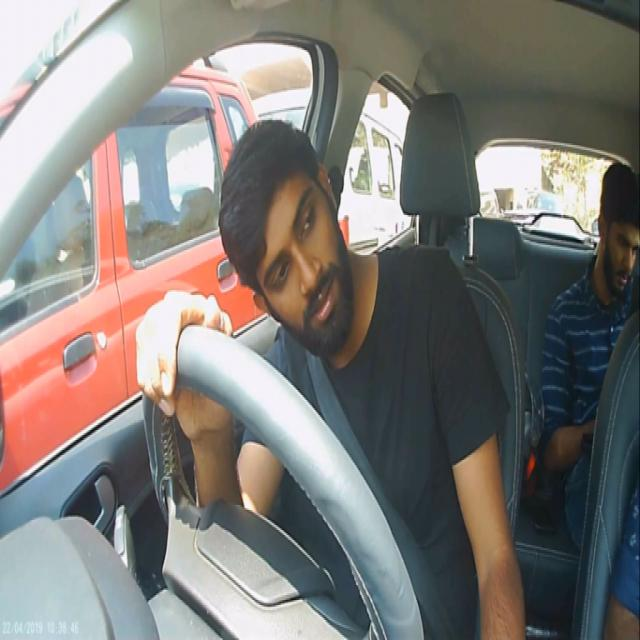seatbelt: (295, 375, 461, 632)
